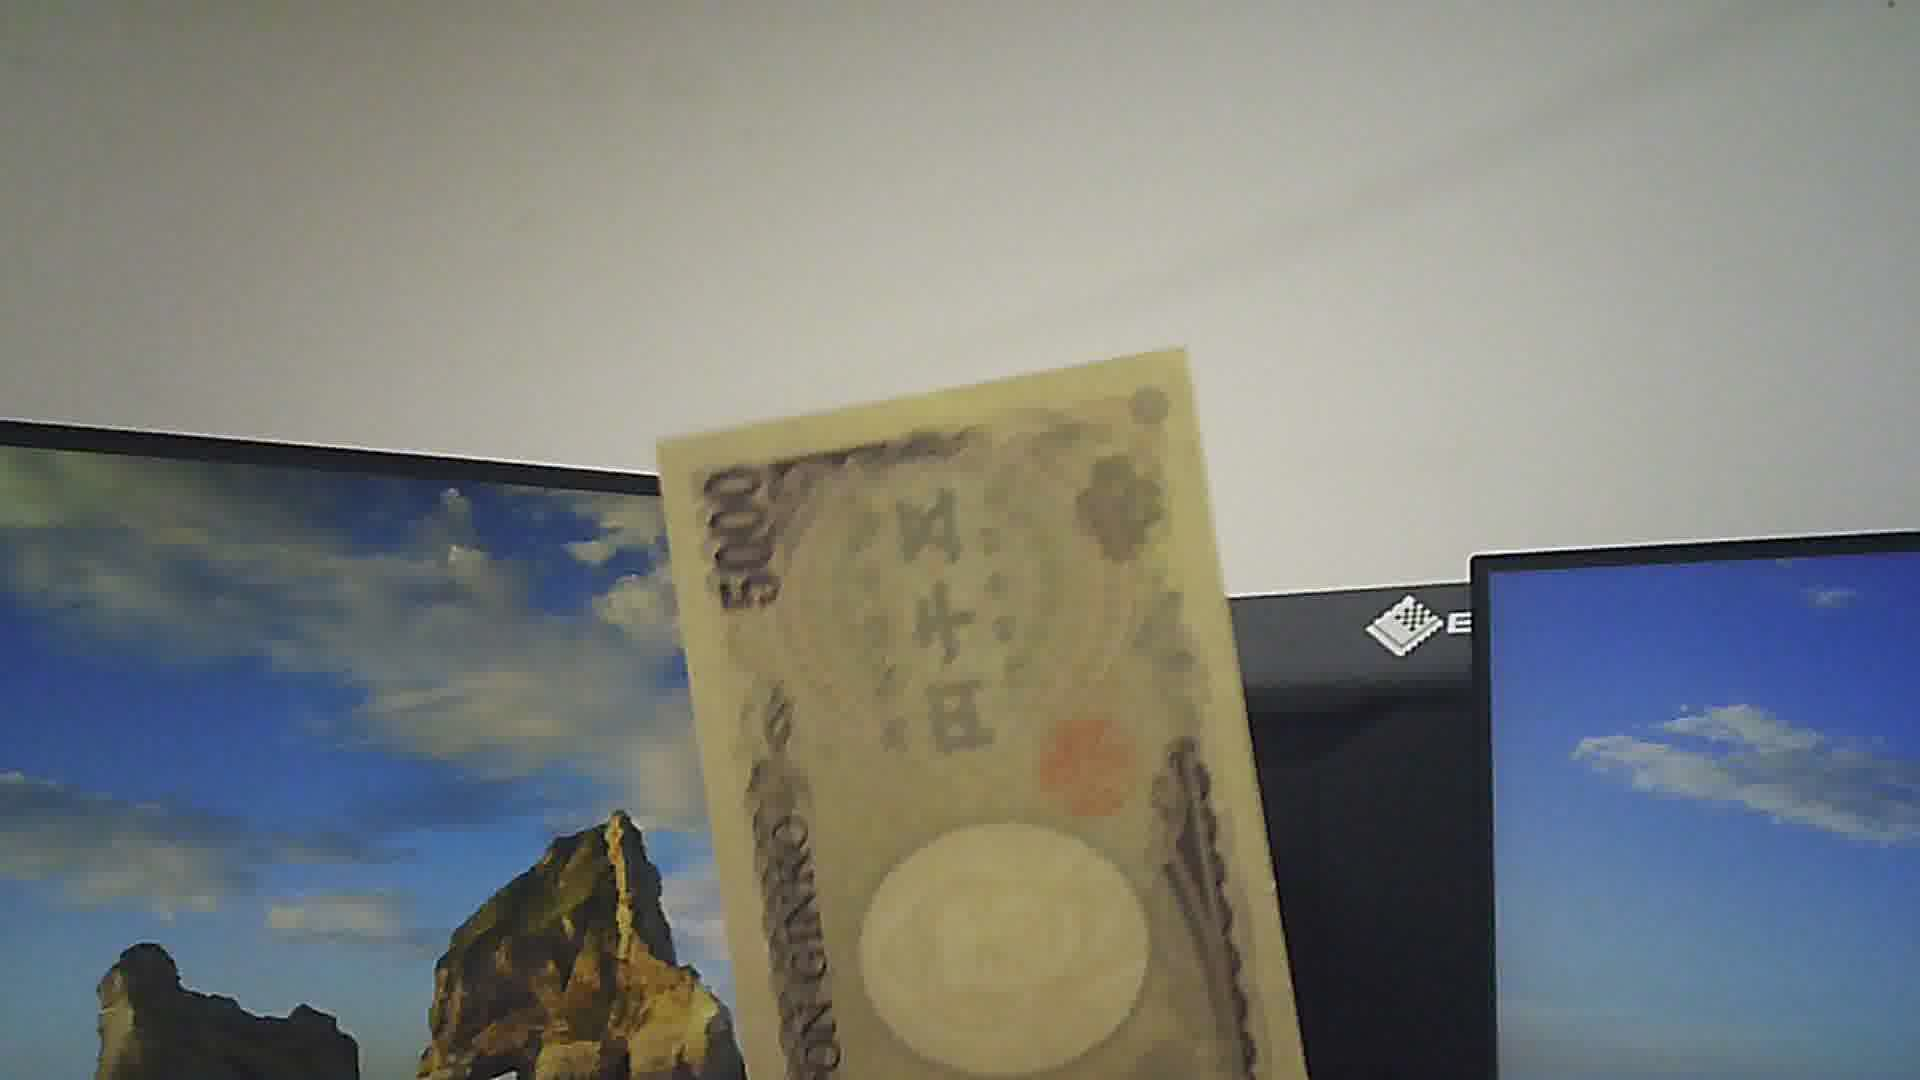5,000 Yen: (651, 345, 1327, 1073)
